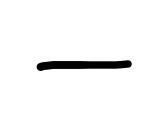minus: (37, 60, 132, 71)
